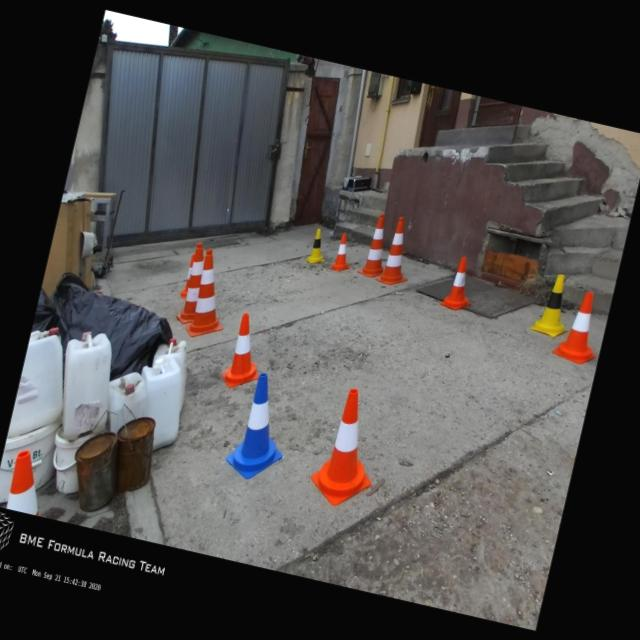blue_cone: (222, 368, 300, 486)
large_orange_cone: (182, 246, 240, 344), (374, 214, 420, 288), (174, 239, 211, 326), (356, 214, 395, 279)
orange_cone: (305, 382, 391, 512), (550, 286, 608, 367), (219, 310, 272, 392), (4, 448, 52, 516), (440, 252, 480, 312), (329, 232, 357, 274), (178, 253, 196, 299)
yellow_cone: (529, 269, 579, 340), (305, 227, 330, 266)
